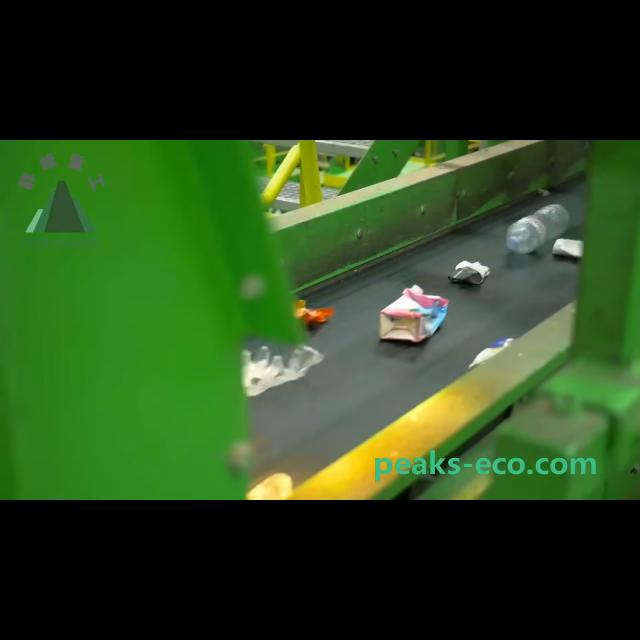trash: (504, 202, 570, 255)
